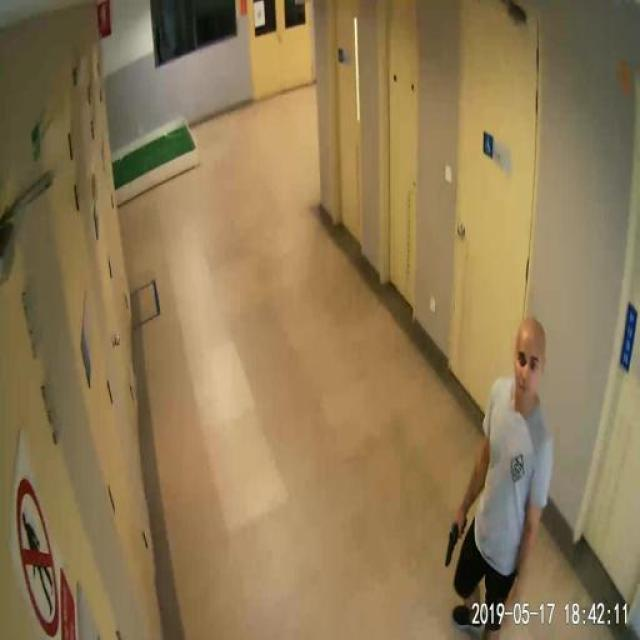Gun: (438, 519, 472, 574)
